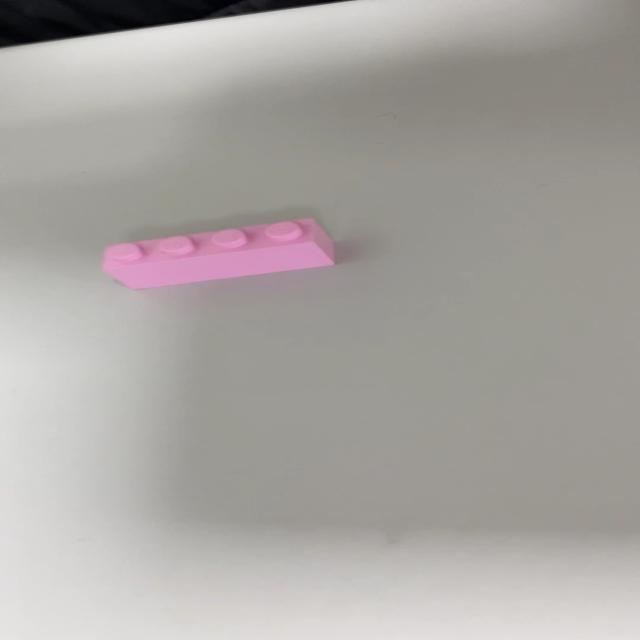C4x1x1: (100, 216, 337, 290)
